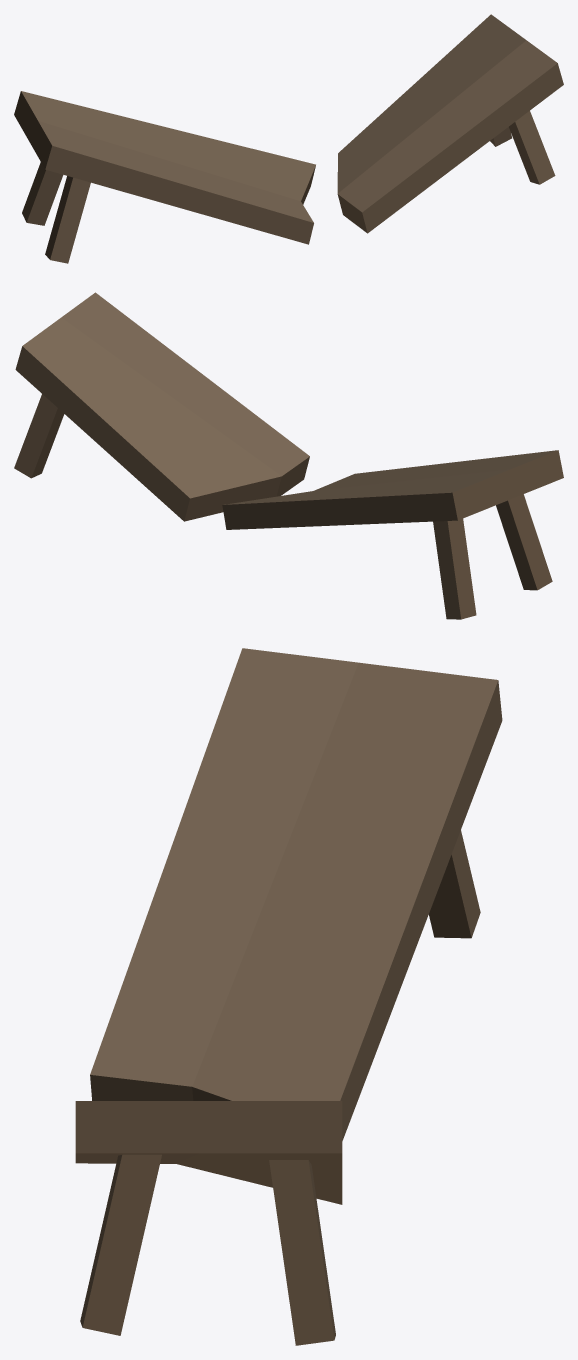
The model's file is SD_Prop_Bench_Broken_01.fbx.
3 renders of one model, top to bottom at view 1: azimuth 30°, elevation 25°; view 2: azimuth 150°, elevation 25°; view 3: azimuth 270°, elevation 25°, orthographic. The views are drawn at different scales.
Visible parts, largest first — view 1: SD_Prop_Bench_Broken_01; view 2: SD_Prop_Bench_Broken_01; view 3: SD_Prop_Bench_Broken_01.
Part boxes in pixels (x1=…): SD_Prop_Bench_Broken_01: x1=14, y1=14, x2=563, y2=263; SD_Prop_Bench_Broken_01: x1=14, y1=292, x2=563, y2=619; SD_Prop_Bench_Broken_01: x1=75, y1=648, x2=502, y2=1345.
Size of the model in its own units: 3.39 by 0.8472 by 1.31.
